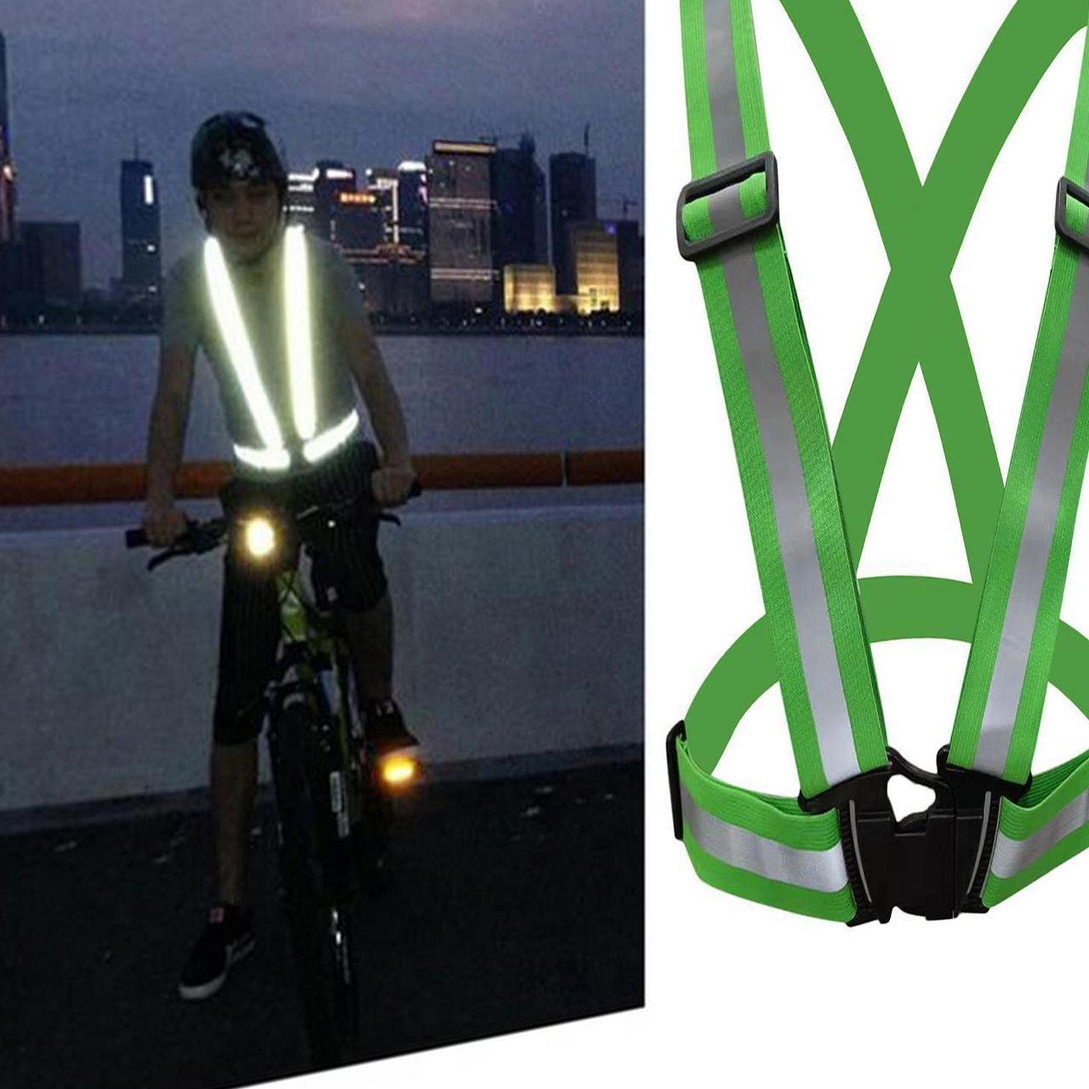Vest: (165, 228, 375, 473)
